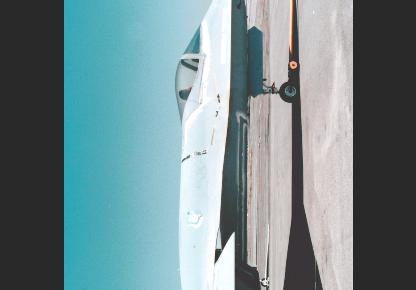US2: (172, 0, 300, 289)
